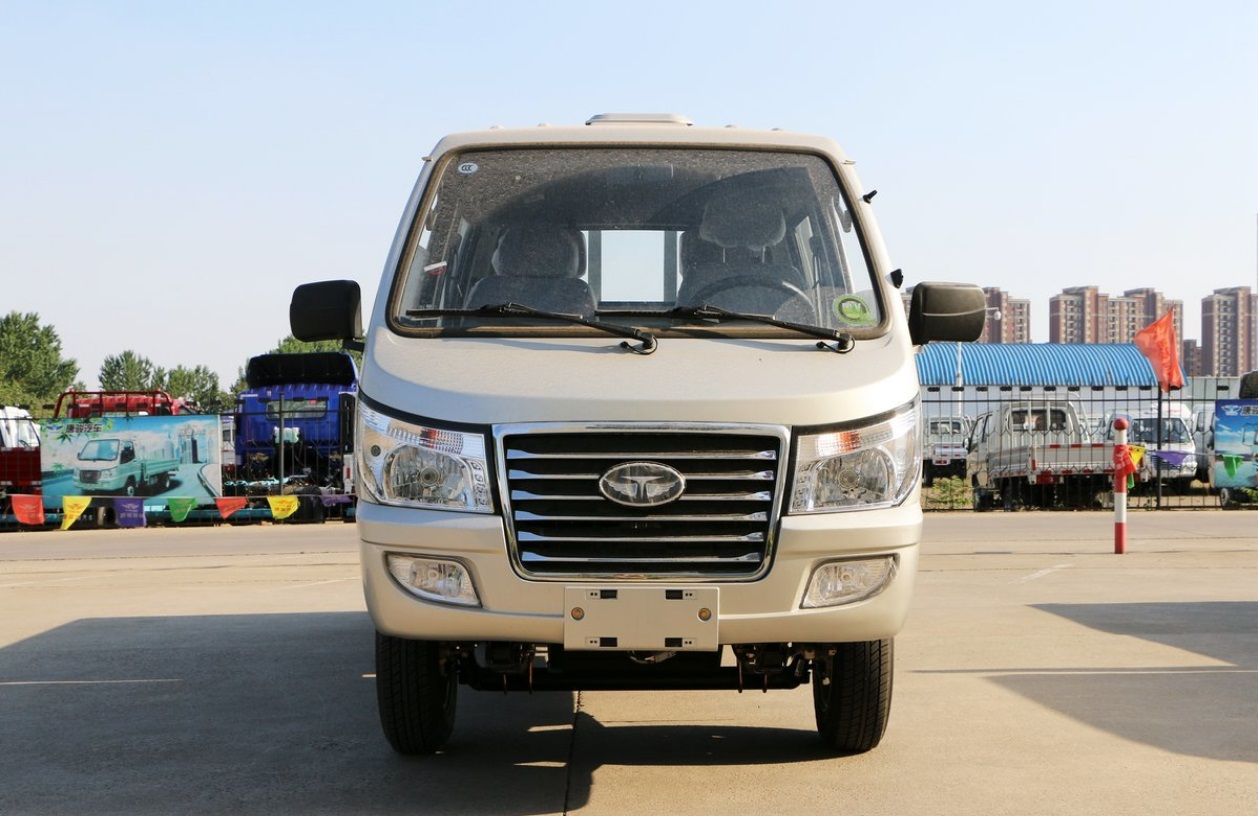truck: (285, 112, 995, 773)
